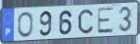3: (118, 5, 134, 34)
6: (58, 9, 74, 36)
9: (39, 10, 52, 37)
C: (77, 8, 95, 35)
E: (96, 7, 115, 35)
O: (16, 11, 34, 38)
